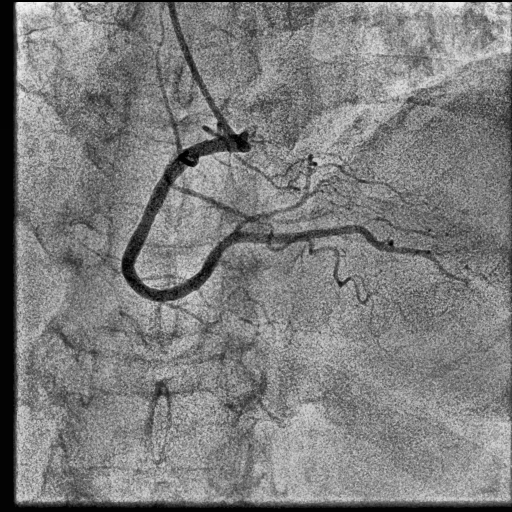pborca: (235, 176, 309, 231)
pda: (232, 224, 441, 266)
rca: (121, 134, 250, 301)
